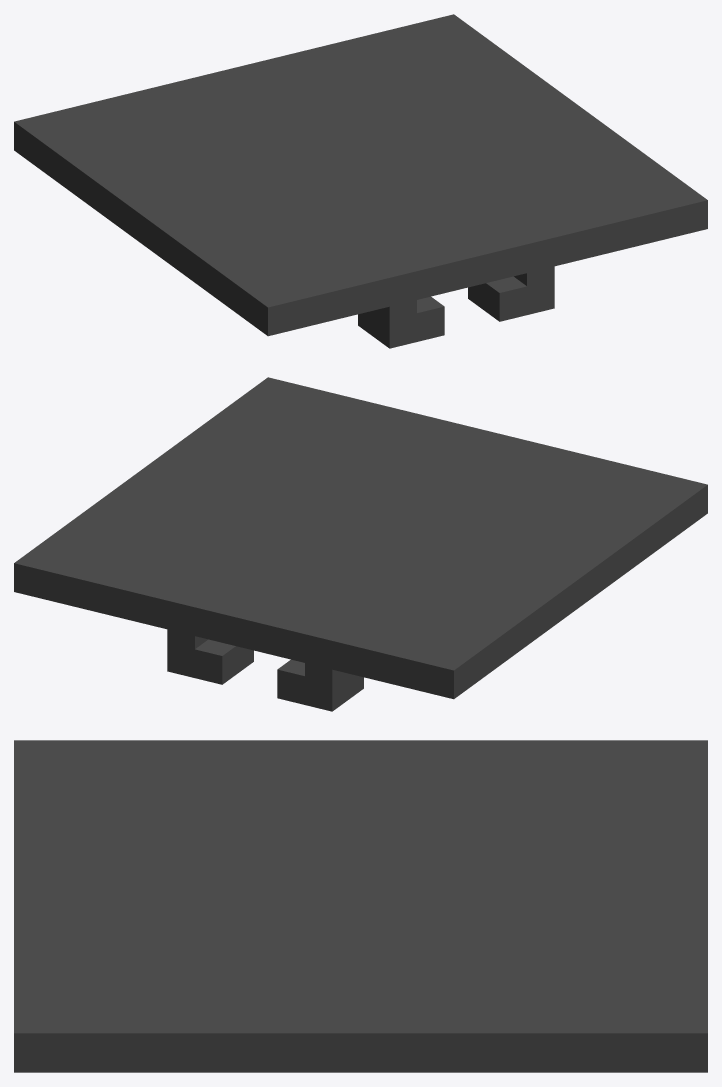
File: printer1table.obj
The picture shows the model from 3 angles, top to bottom: view 1: azimuth 30°, elevation 25°; view 2: azimuth 150°, elevation 25°; view 3: azimuth 270°, elevation 25°; orthographic projection. The views are drawn at different scales.
Size of the model in its own units: 1.6 by 0.3 by 1.6.
